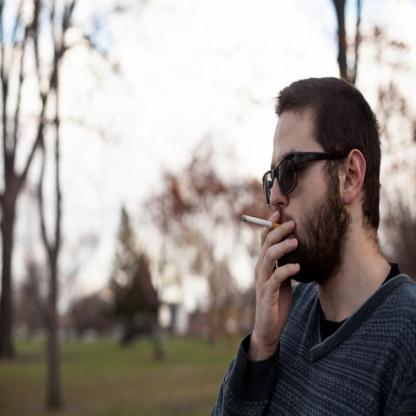cigarette: (238, 211, 276, 232)
person: (204, 74, 416, 416)
